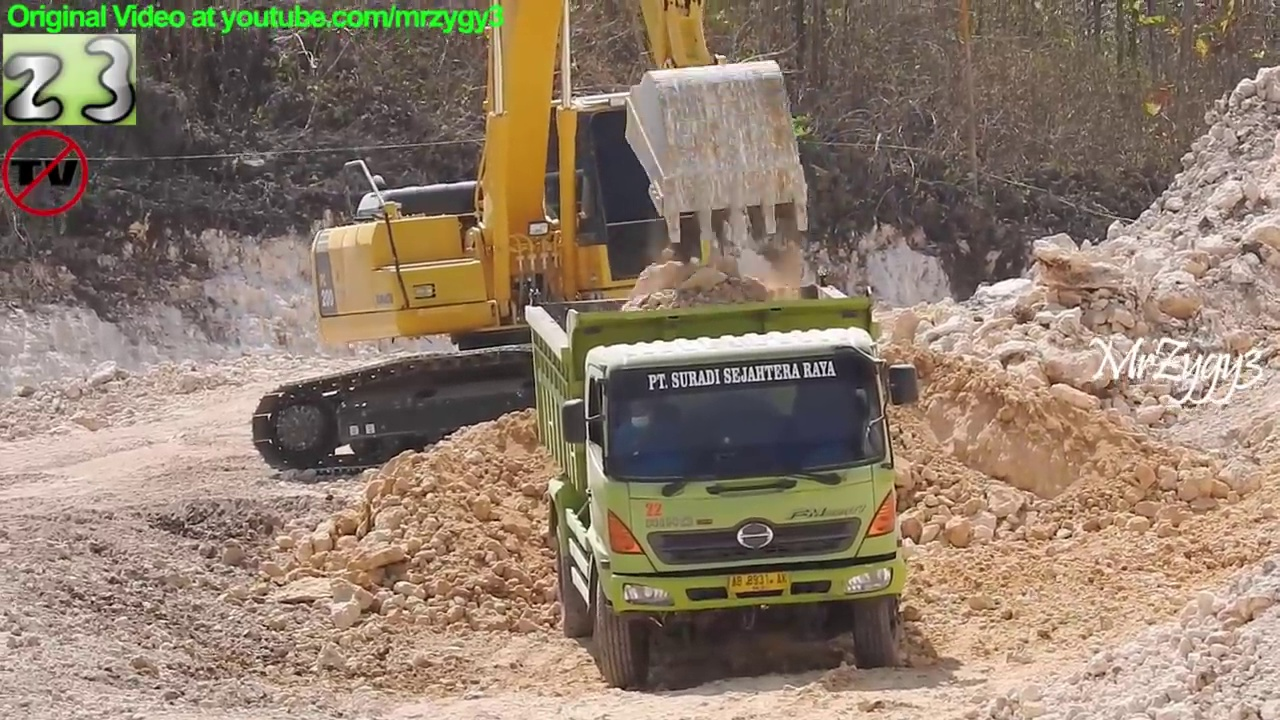excavator: (247, 1, 853, 474)
truck: (520, 268, 931, 695)
